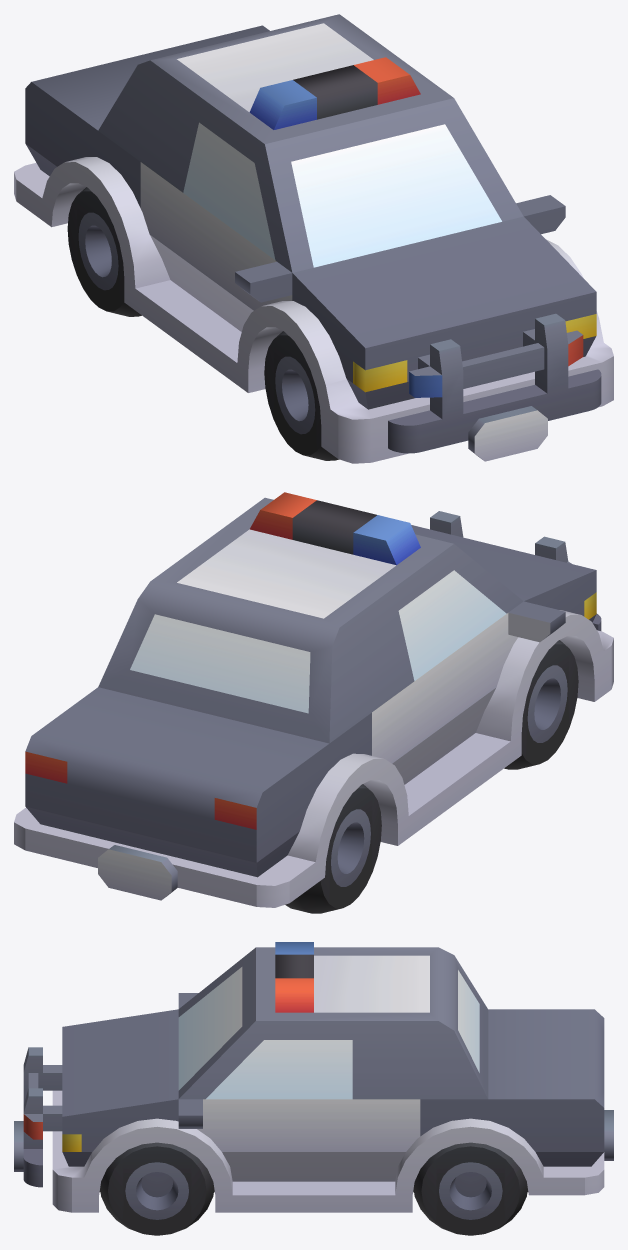
File: police.glb
3 renders of one model, top to bottom at view 1: azimuth 30°, elevation 25°; view 2: azimuth 150°, elevation 25°; view 3: azimuth 270°, elevation 25°, orthographic. The views are drawn at different scales.
Parts seen in each view (by area): view 1: wheel-back-left; view 2: wheel-back-left; view 3: wheel-back-left.
Part boxes in pixels (<box>): wheel-back-left: <box>14,14,613,463</box>; wheel-back-left: <box>14,492,613,913</box>; wheel-back-left: <box>14,942,613,1235</box>.
Bounding box in the file's own units: 1.5 × 1.3 × 3.1.
Materials: 1 (1 with a texture image).
